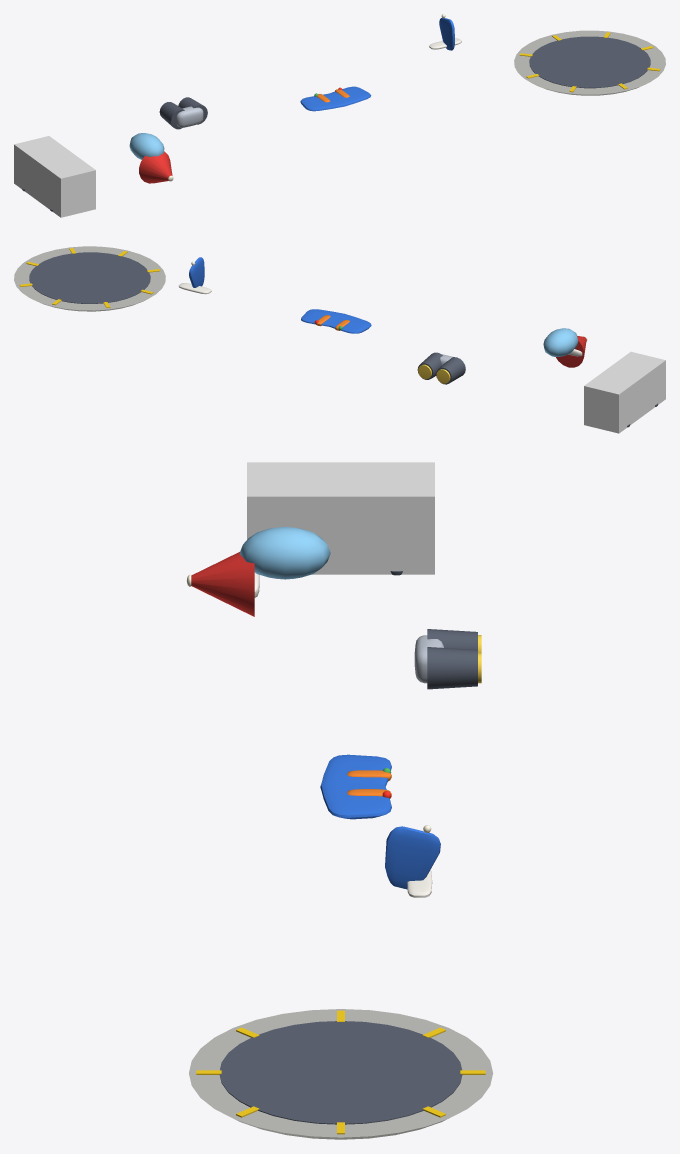
File: Nave_Piezas.fbx
3 views of the same model, one above another, from view 1: azimuth 30°, elevation 25°; view 2: azimuth 150°, elevation 25°; view 3: azimuth 270°, elevation 25° (orthographic). The views are drawn at different scales.
Visible parts, largest first — view 1: Nave_Plataforma, Nave_Chasis_Col0, Nave_Cabina, Nave_Motor, Nave_AlaIzq, Nave_Cola, Nave_AlaDer; view 2: Nave_Plataforma, Nave_Chasis_Col0, Nave_Cabina, Nave_Motor, Nave_Cola, Nave_AlaIzq, Nave_AlaDer, Nave_Motor_Brillo; view 3: Nave_Plataforma, Nave_Chasis_Col0, Nave_Cabina, Nave_Motor, Nave_Cola, Nave_AlaDer, Nave_AlaIzq.
Part boxes in pixels (bbox=[...]): Nave_Plataforma: bbox=[514, 30, 665, 95]; Nave_Chasis_Col0: bbox=[14, 136, 95, 217]; Nave_Cabina: bbox=[129, 133, 172, 183]; Nave_Motor: bbox=[159, 97, 207, 129]; Nave_AlaIzq: bbox=[300, 89, 349, 111]; Nave_Cola: bbox=[429, 18, 461, 50]; Nave_AlaDer: bbox=[317, 86, 371, 107]; Nave_Plataforma: bbox=[14, 246, 165, 311]; Nave_Chasis_Col0: bbox=[584, 351, 665, 433]; Nave_Cabina: bbox=[543, 328, 586, 367]; Nave_Motor: bbox=[417, 352, 465, 384]; Nave_Cola: bbox=[178, 257, 211, 294]; Nave_AlaIzq: bbox=[316, 313, 371, 333]; Nave_AlaDer: bbox=[301, 309, 349, 330]; Nave_Motor_Brillo: bbox=[418, 364, 450, 383]; Nave_Plataforma: bbox=[189, 1009, 493, 1139]; Nave_Chasis_Col0: bbox=[247, 462, 434, 574]; Nave_Cabina: bbox=[191, 527, 330, 616]; Nave_Motor: bbox=[414, 629, 477, 689]; Nave_Cola: bbox=[385, 826, 440, 897]; Nave_AlaDer: bbox=[320, 770, 391, 819]; Nave_AlaIzq: bbox=[320, 754, 391, 798].
Bounding box in the file's own units: 28.19 × 2.88 × 6.04.
2 materials, 2 textured.
